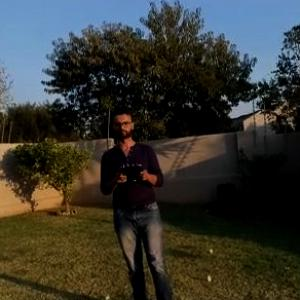follow: (98, 102, 176, 299)
